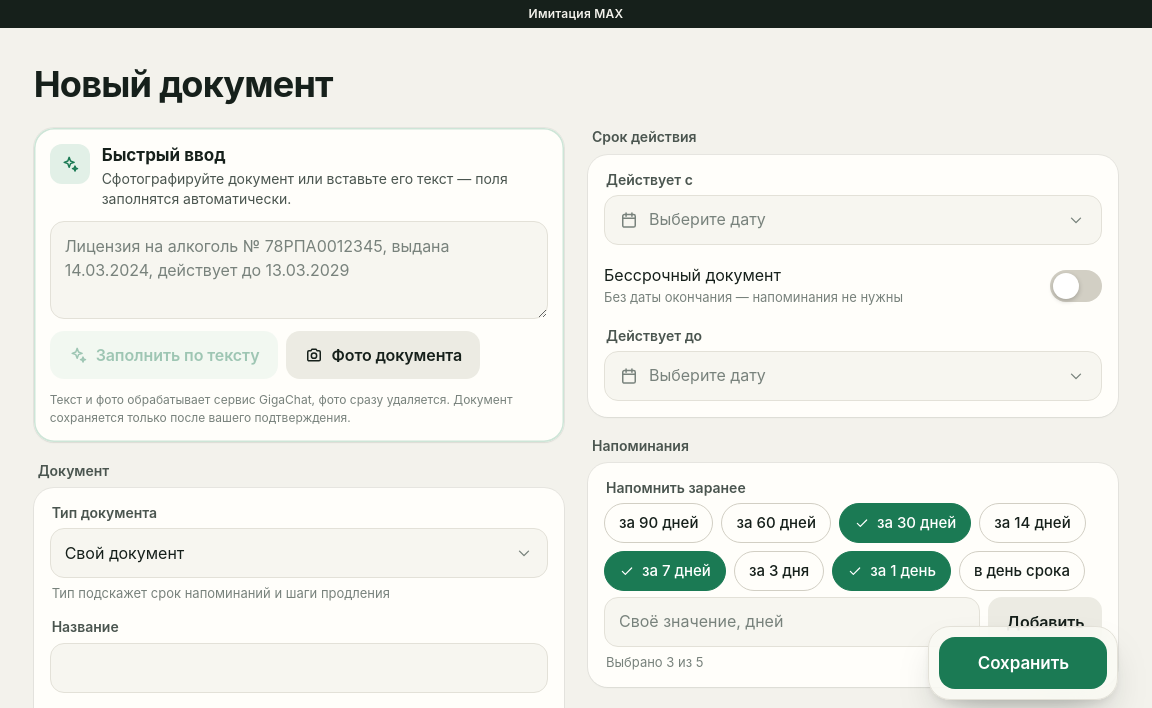
Test: T-FE-LLM: быстрый ввод документа по тексту (FR-21) › дата выдачи из текста попадает в «Действует с», про окончание срока форма предупреждает
In the text box named "Текст документа для распознавания": (299, 270) left=51, top=222, right=547, bottom=318, type "Лицензия на Алкоголь от 12.03.2022"
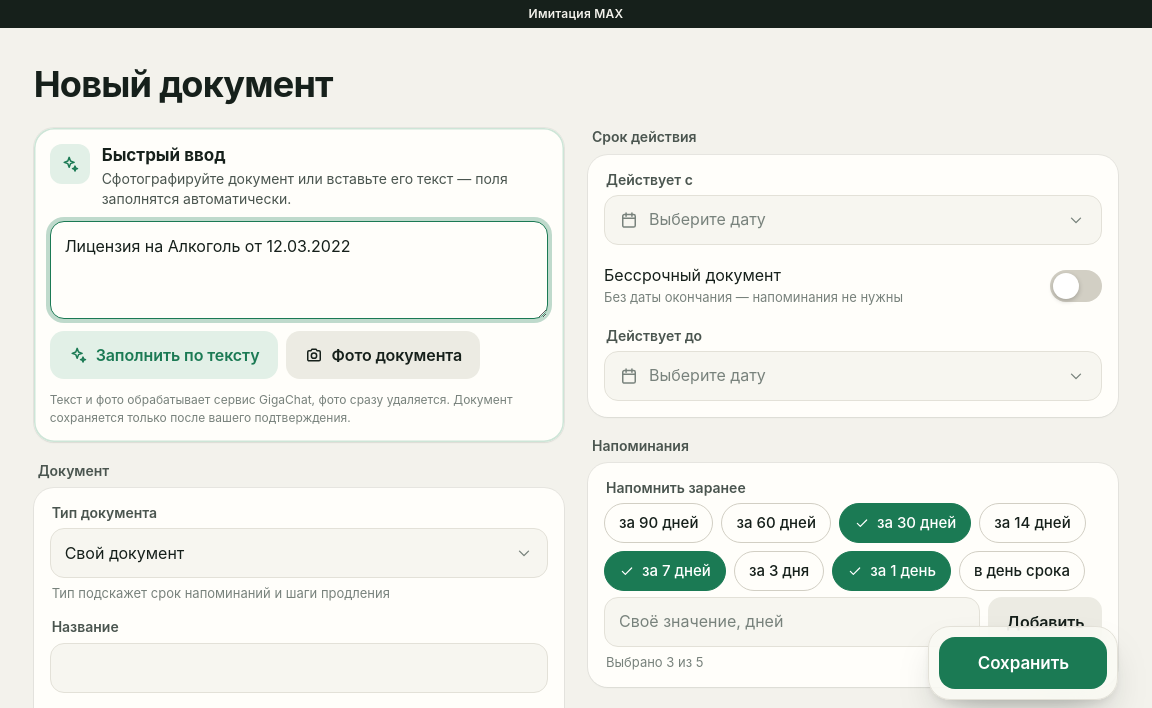
Click the button "Заполнить по тексту": (164, 355) left=50, top=331, right=278, bottom=379
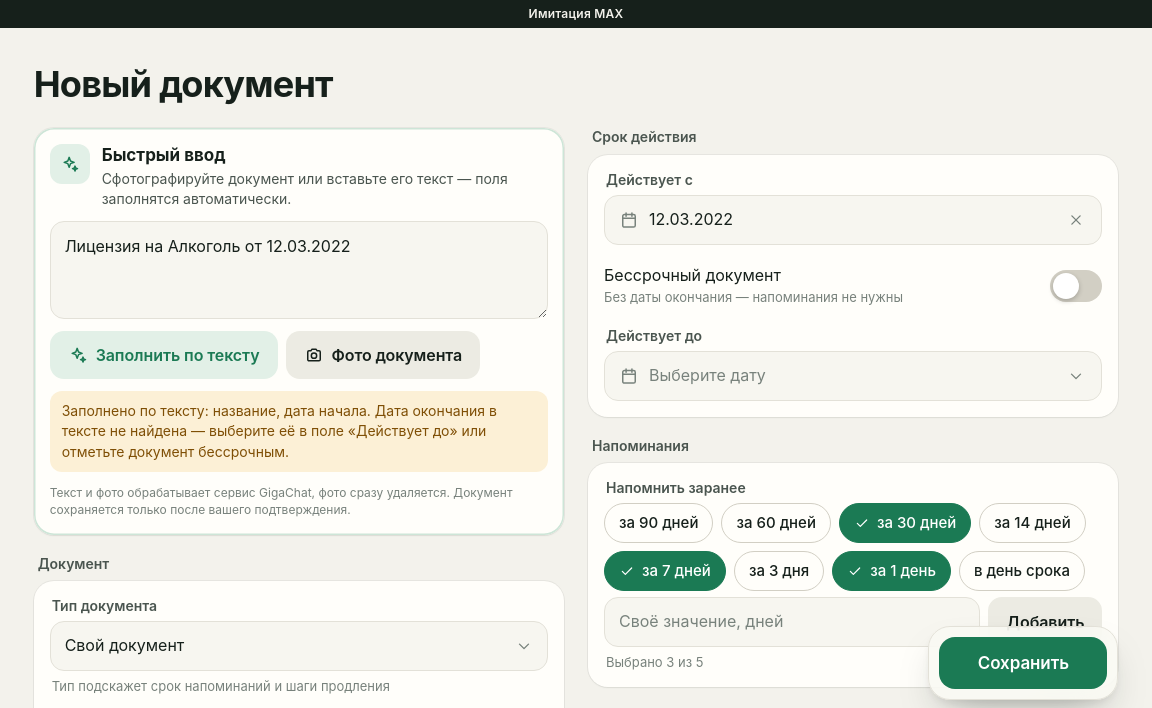
Expected: the field labelled "Действует до" is empty, left=639, top=352, right=1056, bottom=400
Now the field labelled "Действует с" holds "12.03.2022", box left=639, top=196, right=1056, bottom=244
Now the message shows "Дата окончания в тексте не найдена", box left=62, top=402, right=497, bottom=460
